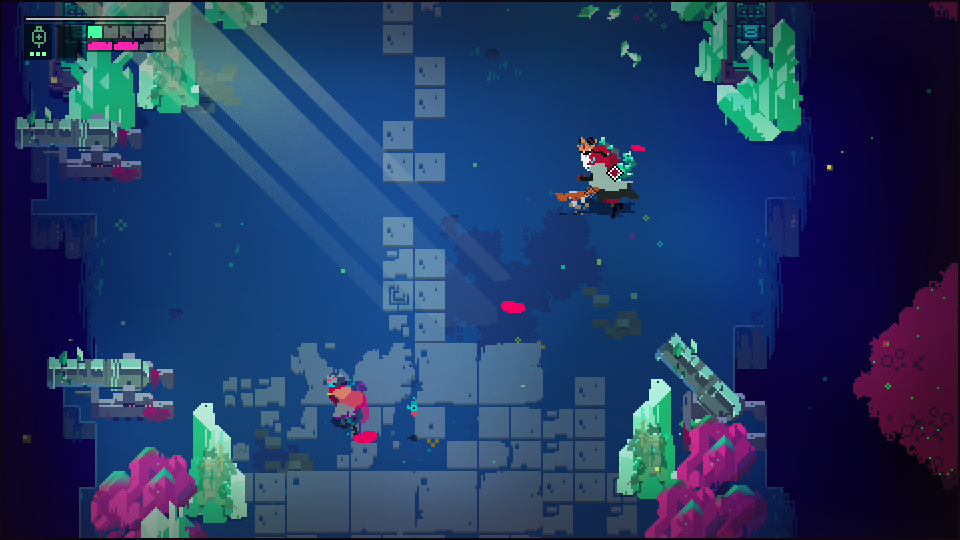hanged_man: (553, 129, 637, 215)
player: (321, 368, 367, 432)
